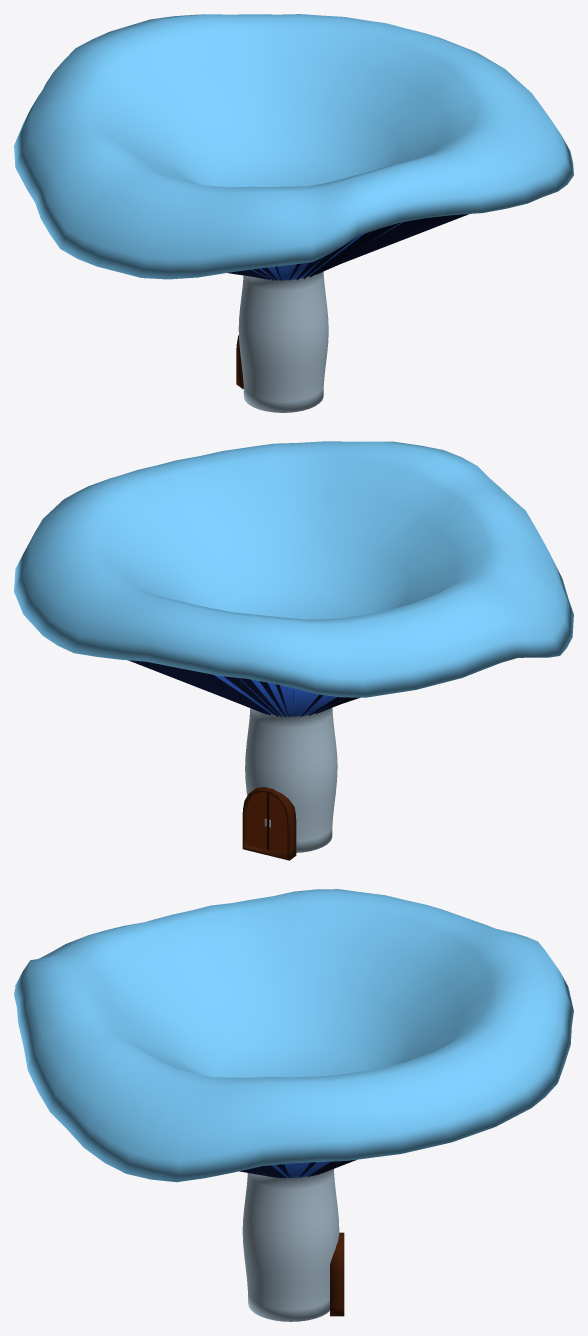
File: mushweapons.glb
3 renders of one model, top to bottom at view 1: azimuth 30°, elevation 25°; view 2: azimuth 150°, elevation 25°; view 3: azimuth 270°, elevation 25°, orthographic. The views are drawn at different scales.
Visible parts, largest first — view 1: Wmushtop, Wfrills; view 2: Wmushtop, Wfrills, Wdoor frame, Wdoor 2, Wdoor 1; view 3: Wmushtop, Wdoor frame, Wfrills.
Boxes of the visible parts, bbox=[...] form: Wmushtop: bbox=[14, 14, 573, 412]; Wfrills: bbox=[228, 214, 468, 280]; Wmushtop: bbox=[14, 441, 573, 852]; Wfrills: bbox=[128, 660, 359, 717]; Wdoor frame: bbox=[242, 787, 296, 860]; Wdoor 2: bbox=[247, 792, 268, 850]; Wdoor 1: bbox=[268, 793, 287, 854]; Wmushtop: bbox=[14, 889, 573, 1321]; Wdoor frame: bbox=[330, 1232, 344, 1316]; Wfrills: bbox=[239, 1159, 356, 1178].
Size of the model in its own units: 20.96 by 12.53 by 19.51.
